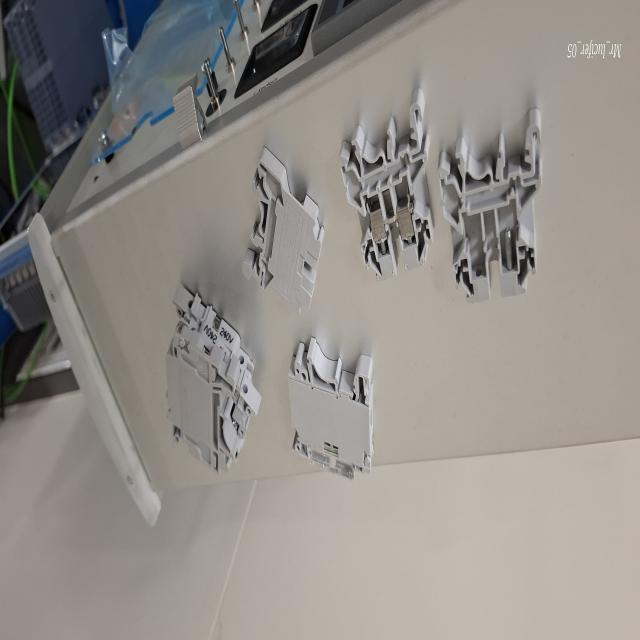Inverted: (234, 127, 341, 323)
Pass: (335, 89, 443, 296)
Reject: (430, 104, 564, 318)
